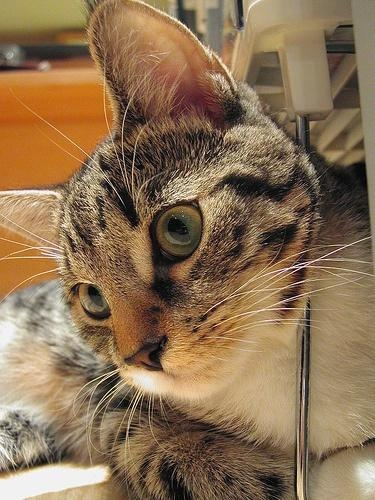cat: (4, 2, 375, 500)
